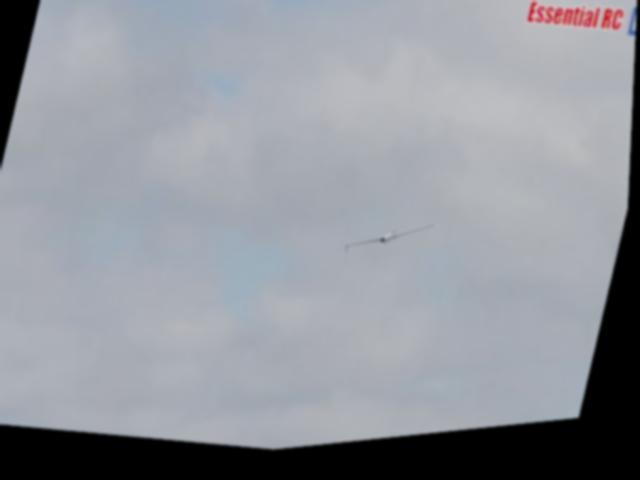flying wing: (343, 213, 444, 283)
